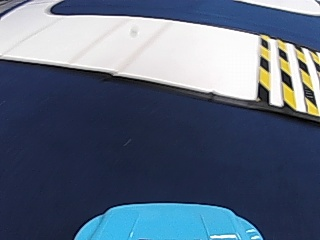bump: (248, 37, 318, 109)
